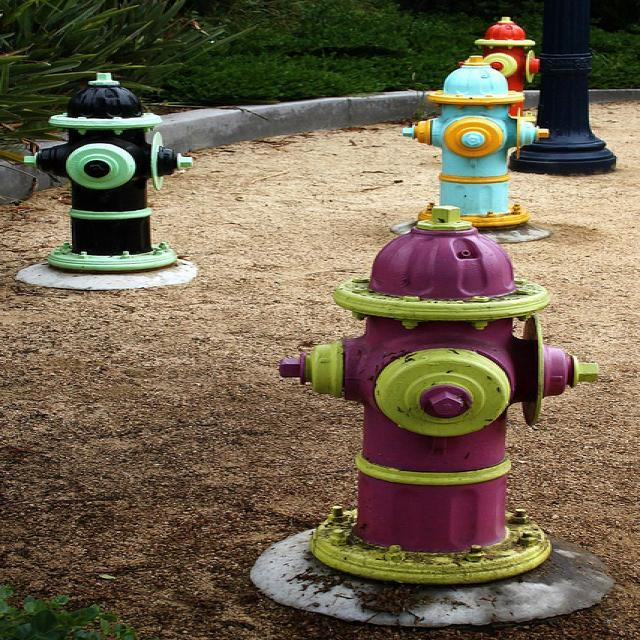fire_hydrant: (277, 211, 598, 583), (22, 69, 201, 269), (396, 51, 552, 243), (506, 0, 624, 174), (474, 17, 540, 122)
